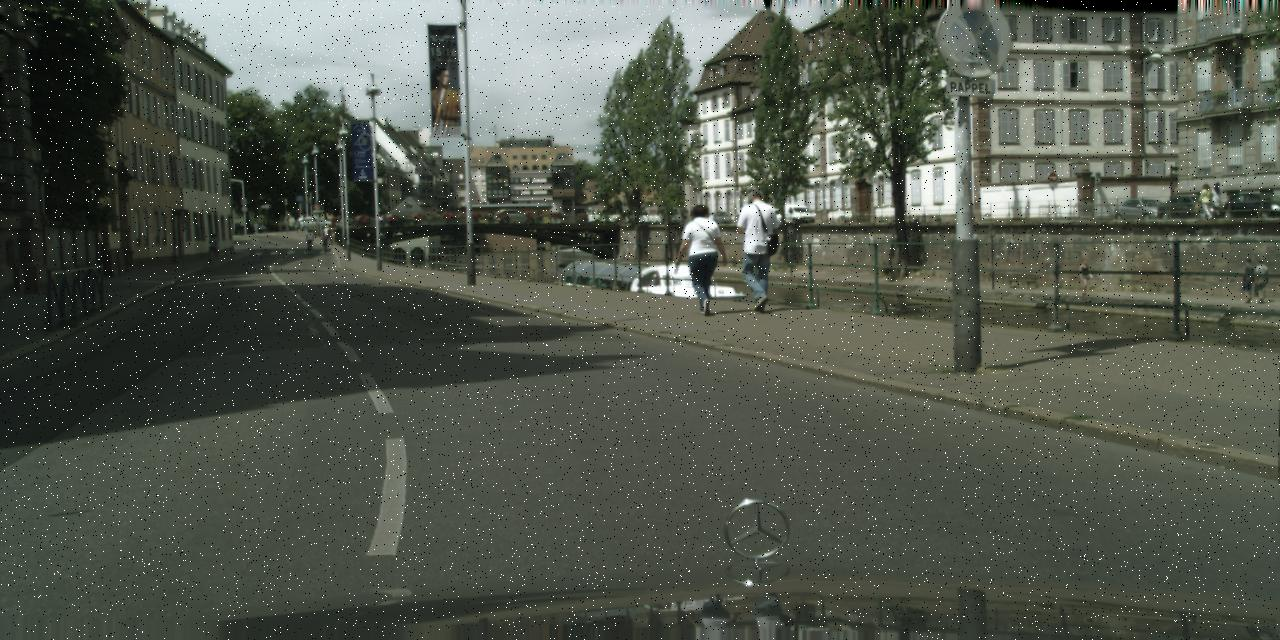ped: (732, 190, 782, 312), (680, 204, 725, 315), (1208, 182, 1222, 217), (1198, 183, 1212, 218), (322, 224, 337, 245), (209, 234, 218, 258), (304, 229, 312, 249), (320, 233, 328, 250), (252, 221, 258, 234)
